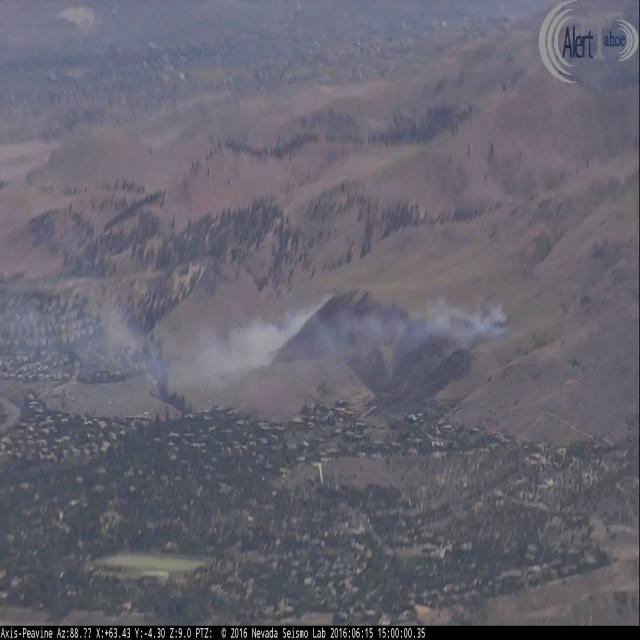smoke: (202, 300, 513, 384)
